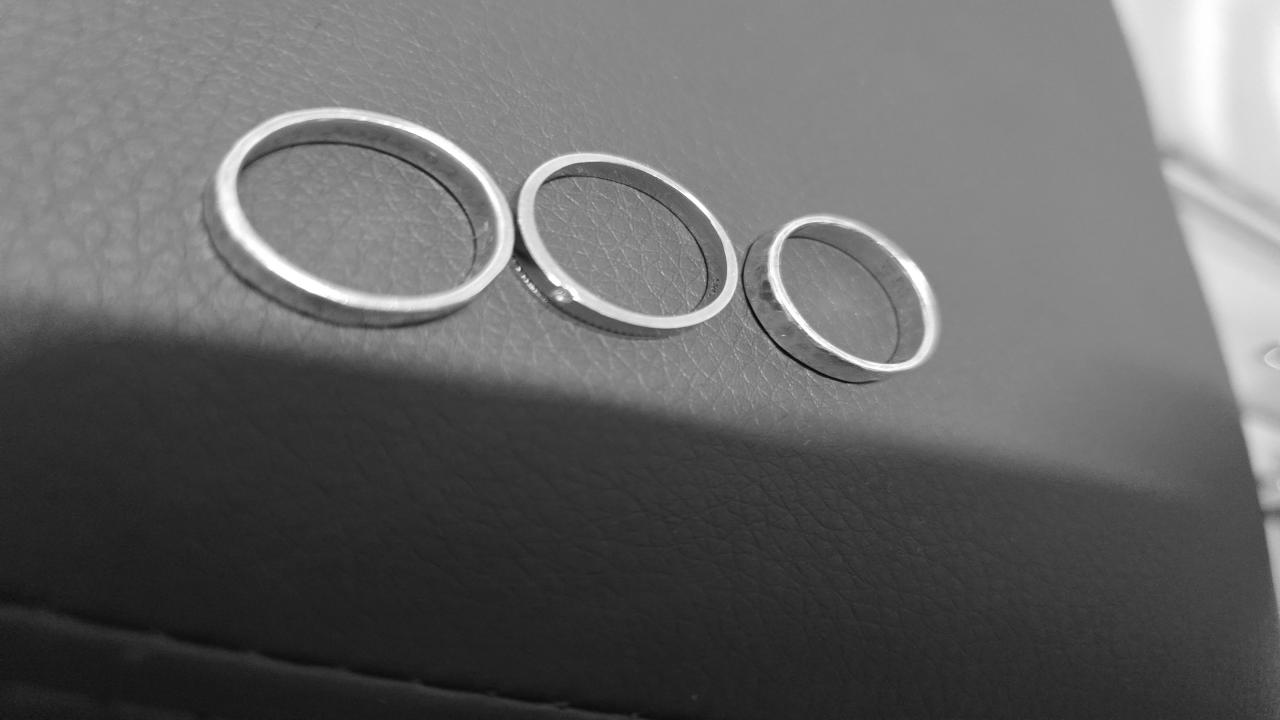ring: (203, 104, 522, 327), (508, 151, 738, 337), (741, 215, 944, 386)
